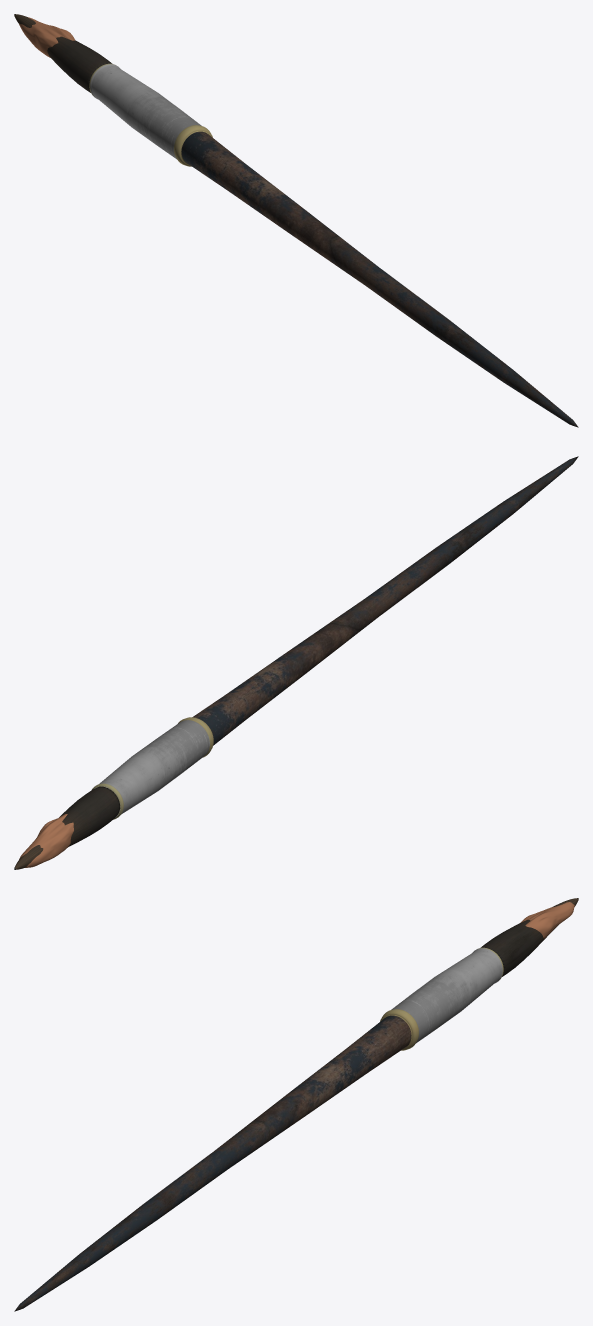
File: paint_brush.glb
3 views of the same model, one above another, from view 1: azimuth 30°, elevation 25°; view 2: azimuth 150°, elevation 25°; view 3: azimuth 330°, elevation 25° (orthographic).
Visible parts, largest first — view 1: Cylinder.003_0, Cylinder.005_2, Icosphere.001_3; view 2: Cylinder.003_0, Cylinder.005_2, Icosphere.001_3; view 3: Cylinder.003_0, Cylinder.005_2, Icosphere.001_3.
Boxes of the visible parts, <box> form: Cylinder.003_0: <box>89,63,578,427</box>; Cylinder.005_2: <box>14,14,112,92</box>; Icosphere.001_3: <box>19,17,74,57</box>; Cylinder.003_0: <box>92,456,578,819</box>; Cylinder.005_2: <box>14,787,119,869</box>; Icosphere.001_3: <box>19,814,73,867</box>; Cylinder.003_0: <box>14,947,503,1311</box>; Cylinder.005_2: <box>480,898,578,976</box>; Icosphere.001_3: <box>520,902,574,938</box>.
Size of the model in its own units: 0.91 by 0.91 by 23.54.
5 materials, 3 textured.
